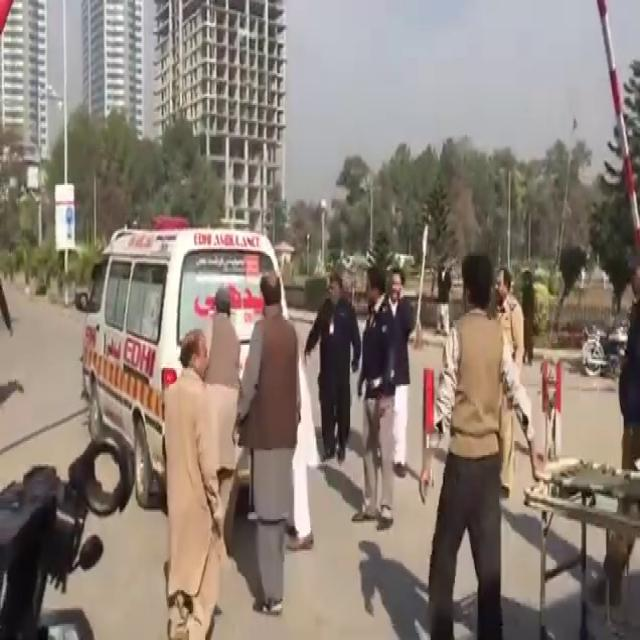ambulance: (88, 228, 292, 485)
